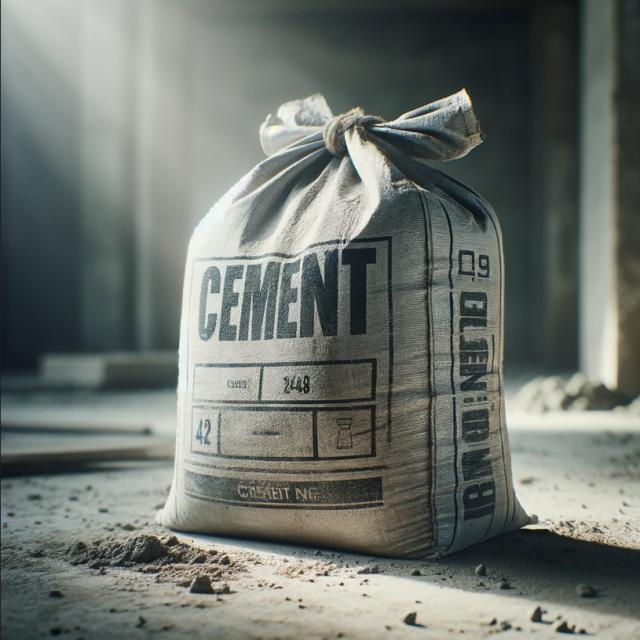KantongSemen: (153, 86, 536, 561)
